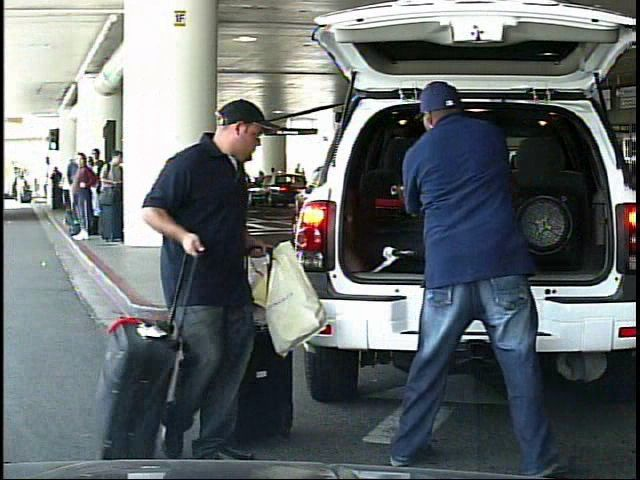person: (381, 75, 565, 478), (138, 101, 272, 460), (293, 162, 306, 197), (16, 172, 27, 203)
